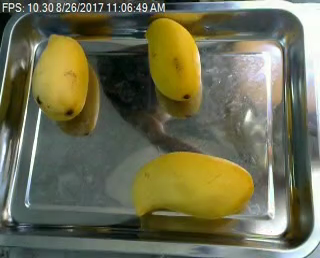Mango: (127, 147, 259, 229), (26, 29, 94, 123), (141, 17, 206, 103)
